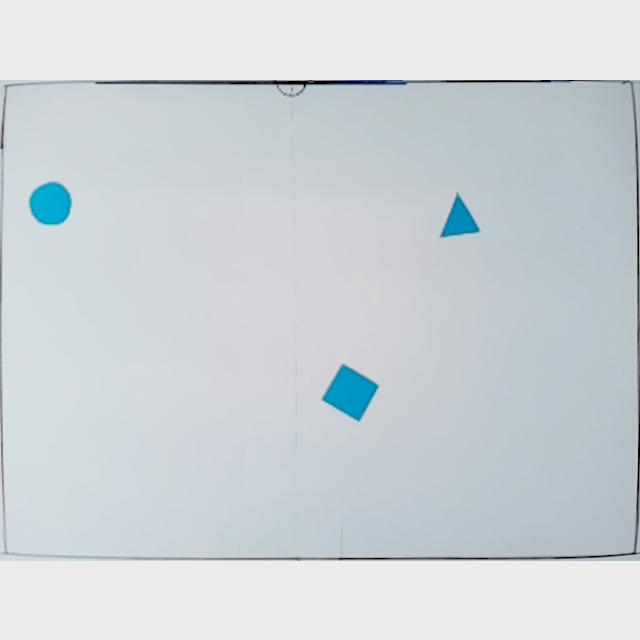blueCircle: (28, 178, 72, 225)
blueSquare: (321, 360, 381, 420)
blueTriangle: (439, 190, 481, 237)
